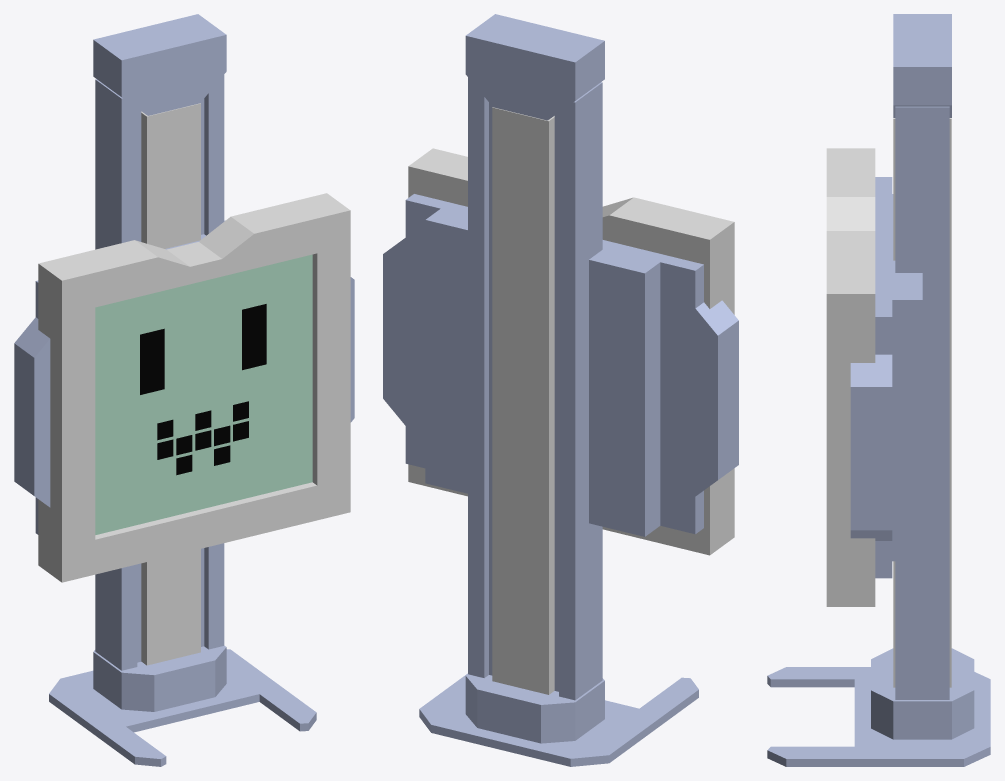
Rendered from SNUH_Ray.fbx.
3 renders of one model, left to right at view 1: azimuth 30°, elevation 25°; view 2: azimuth 150°, elevation 25°; view 3: azimuth 270°, elevation 25°, orthographic. The views are drawn at different scales.
Parts seen in each view (by area): view 1: Cube.007, Cube.009, Cube.006, Cube.008, Cube.010, Cube.005, Cube.011, Plane.001; view 2: Cube.005, Cube.009, Cube.008, Cube.006, Cube.007, Cube.010; view 3: Cube.009, Cube.005, Cube.007, Cube.006, Cube.010, Cube.008.
Boxes of the visible parts, bbox=[...] form: Cube.007: bbox=[38, 193, 350, 582]; Cube.009: bbox=[95, 75, 224, 670]; Cube.006: bbox=[49, 645, 316, 766]; Cube.008: bbox=[141, 103, 200, 665]; Cube.010: bbox=[93, 14, 226, 115]; Cube.005: bbox=[14, 220, 354, 534]; Cube.011: bbox=[140, 304, 266, 394]; Plane.001: bbox=[157, 401, 248, 475]; Cube.005: bbox=[383, 194, 738, 536]; Cube.009: bbox=[468, 77, 602, 700]; Cube.008: bbox=[492, 107, 554, 694]; Cube.006: bbox=[419, 673, 698, 766]; Cube.007: bbox=[408, 148, 734, 555]; Cube.010: bbox=[465, 14, 604, 120]; Cube.009: bbox=[895, 106, 949, 699]; Cube.005: bbox=[850, 177, 922, 578]; Cube.007: bbox=[826, 148, 875, 606]; Cube.006: bbox=[767, 648, 990, 766]; Cube.010: bbox=[893, 14, 951, 117]; Cube.008: bbox=[893, 118, 951, 687].
Size of the model in its own units: 195 by 381 by 113.
